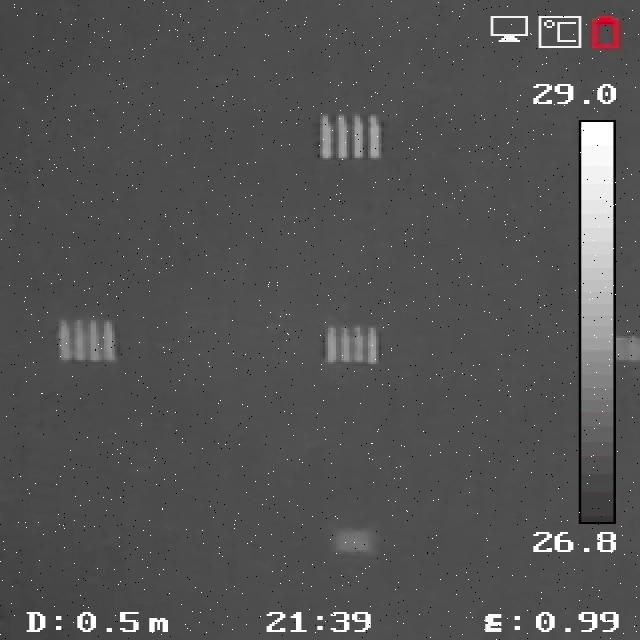Distinguishable 4-bar target: (313, 111, 388, 160), (54, 316, 122, 364), (322, 325, 382, 366)
Indistinguishable 4-bar target: (336, 525, 373, 557)
